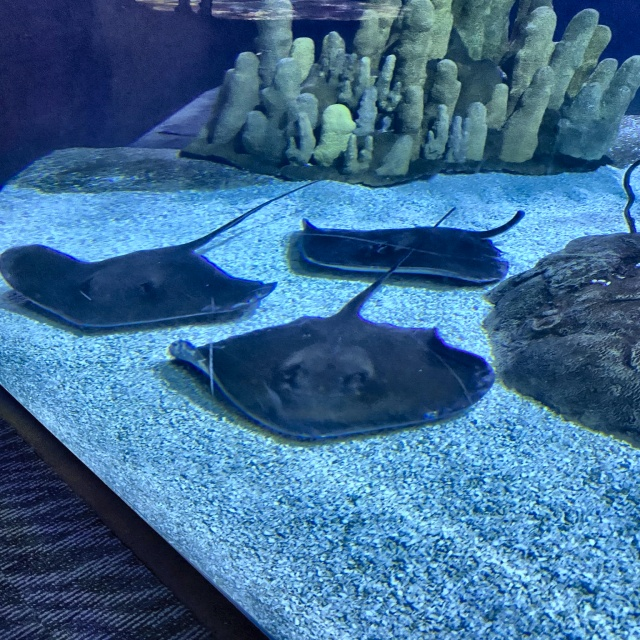stingray: (169, 314, 496, 439), (0, 244, 276, 329), (300, 220, 509, 284)
